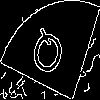Q: (25, 25, 68, 87)
